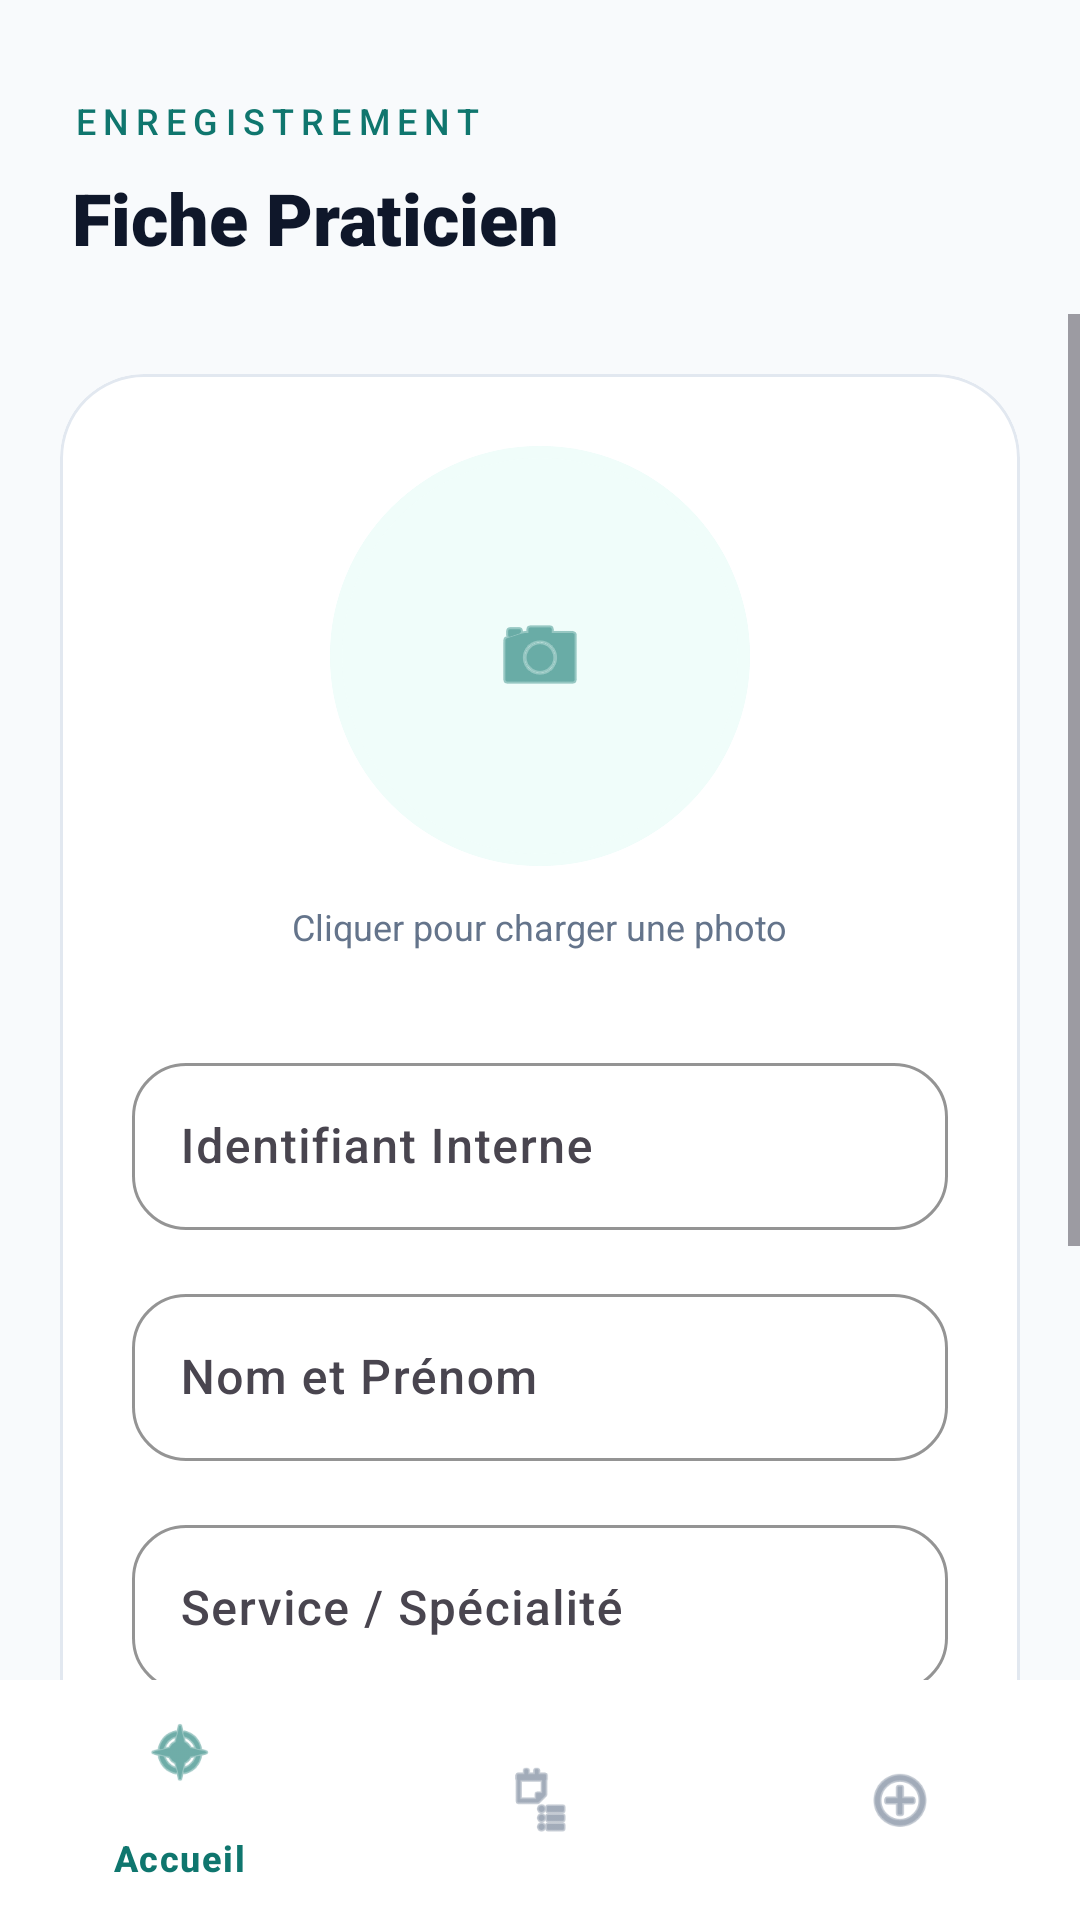

Where to tap for icons on this 1080×1920 app screen, as (x=x, y=y):
camera: (x=540, y=654)
